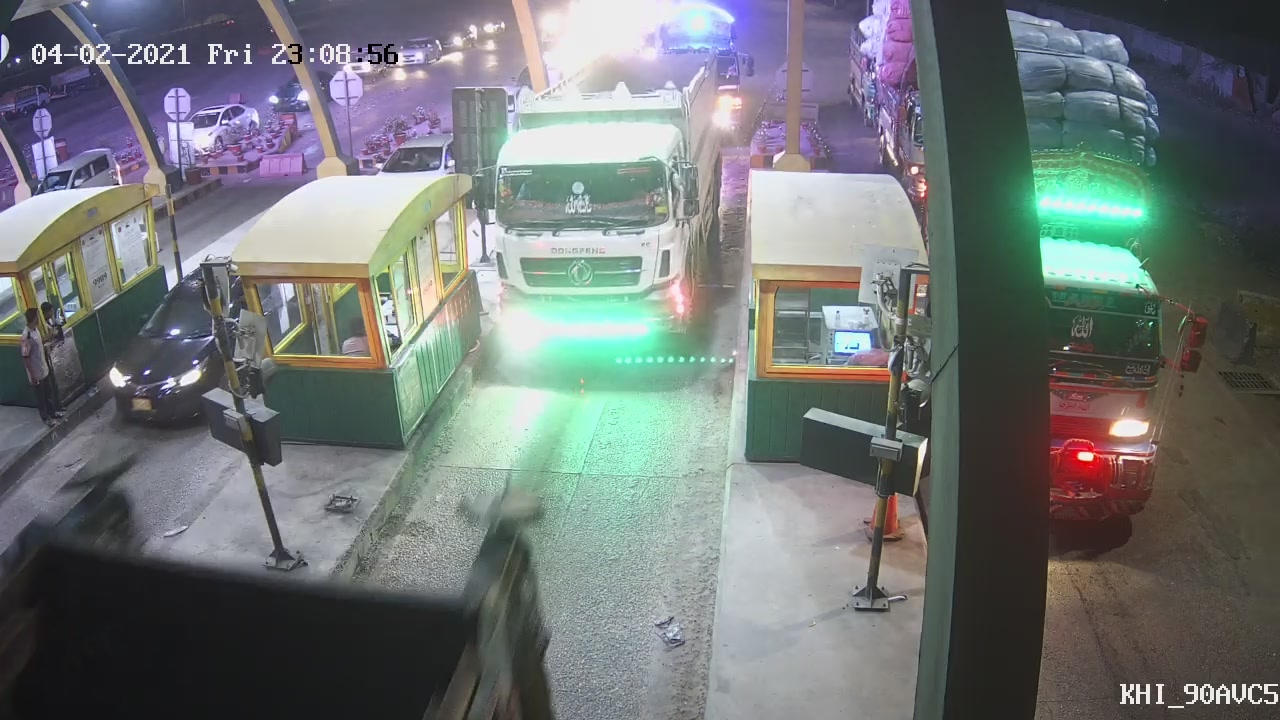F5: (473, 66, 715, 367)
